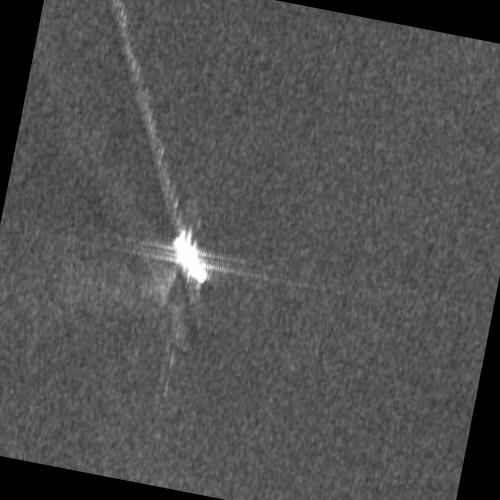ship: (172, 231, 209, 283)
